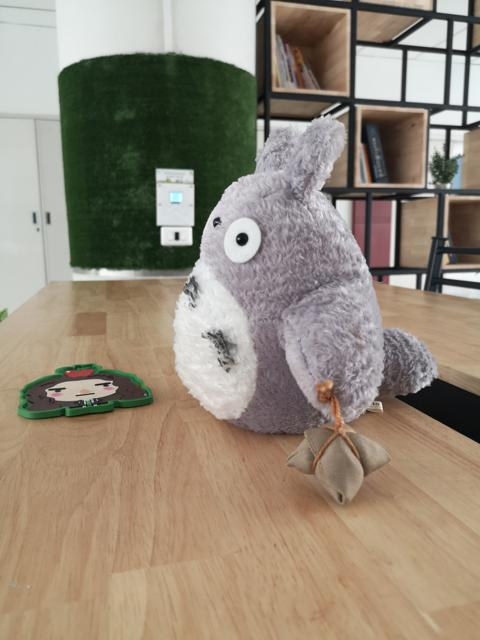totoro: (167, 112, 444, 513)
